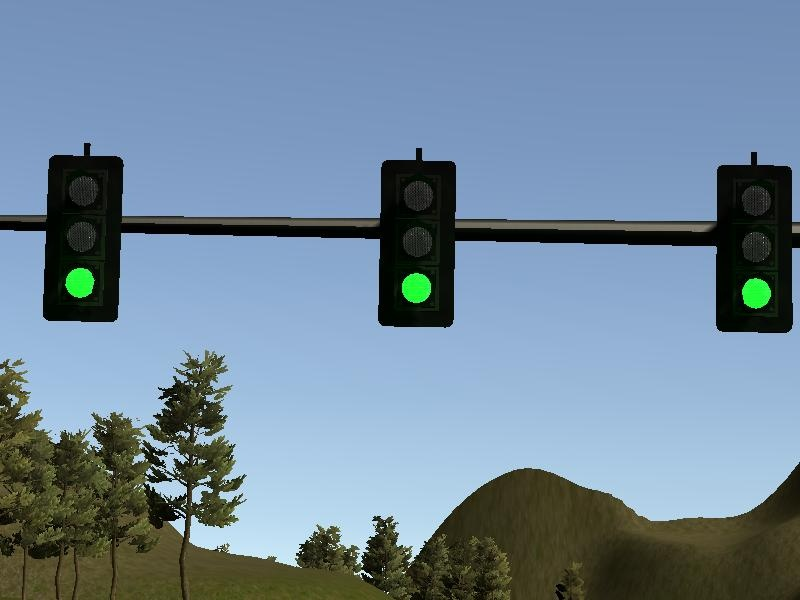Green: (710, 162, 799, 337), (371, 162, 455, 331), (41, 158, 117, 324)
